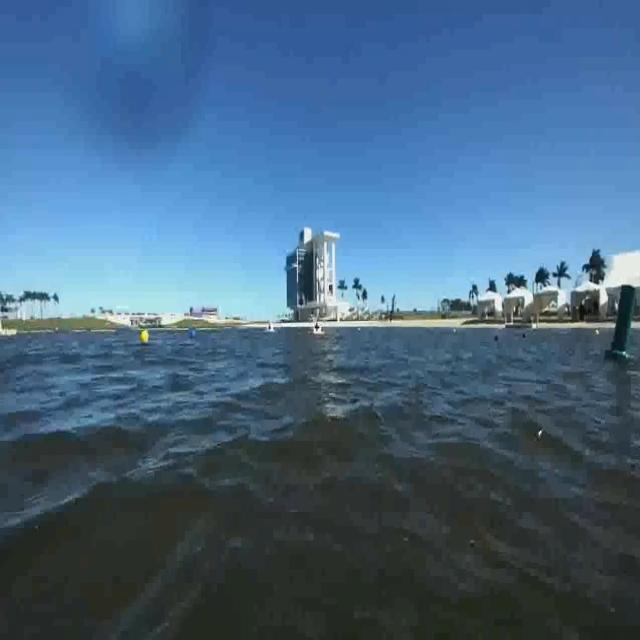blue-buoy: (189, 328, 197, 343)
green-column-buoy: (606, 283, 640, 363)
yellow-buoy: (140, 327, 150, 344)
